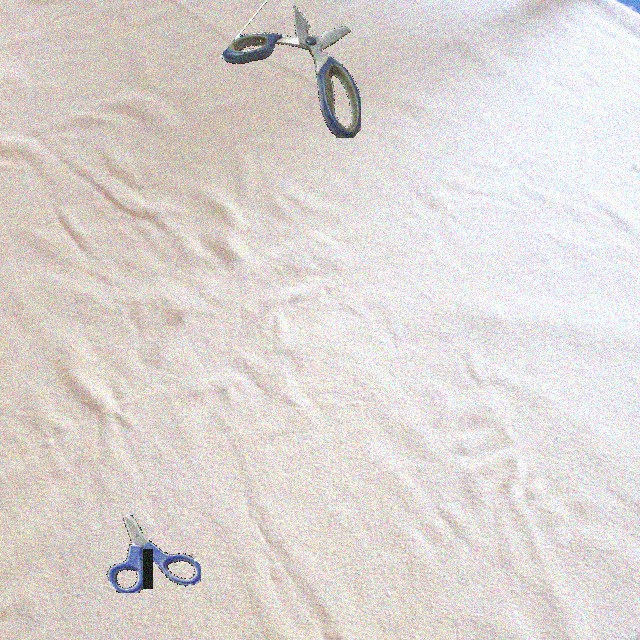scissors: (220, 0, 361, 138), (106, 514, 201, 593)
